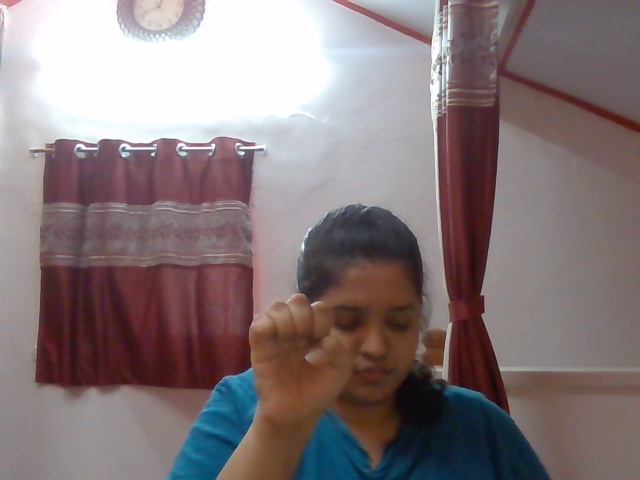s: (230, 289, 366, 428)
